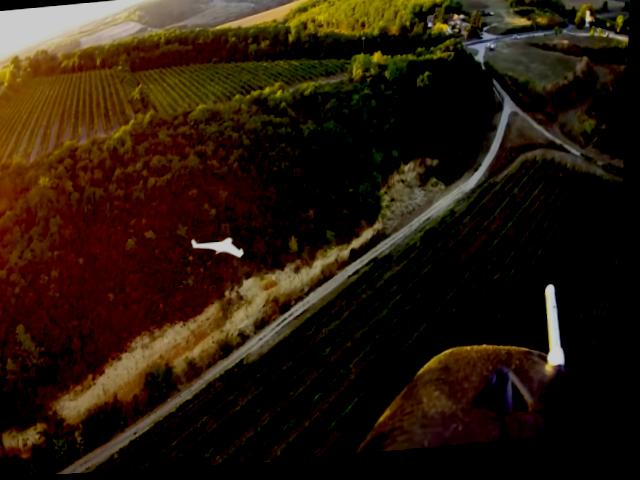plane: (193, 237, 249, 266)
